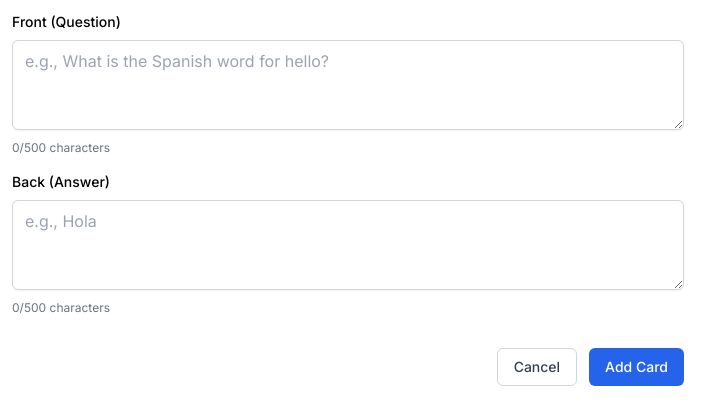
Test: CardForm Component › should validate empty back text
The width and height of the screenshot is (701, 403).
Type "Question" into the text box labelled "Front (Question)" at (348,85), box [12, 40, 684, 130]
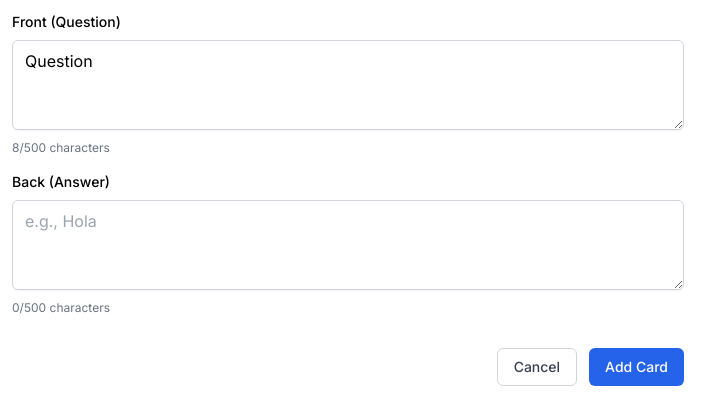
Click the button "Add Card" at (637,367), box [589, 348, 684, 386]
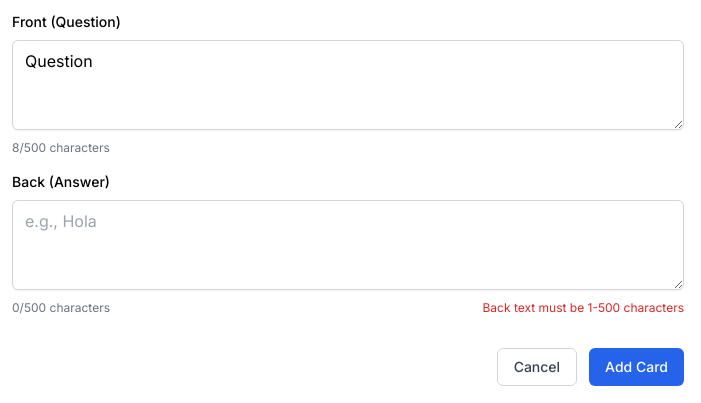
Result: the text "Back text must be 1-500 characters" is shown at [482, 300, 684, 316]
